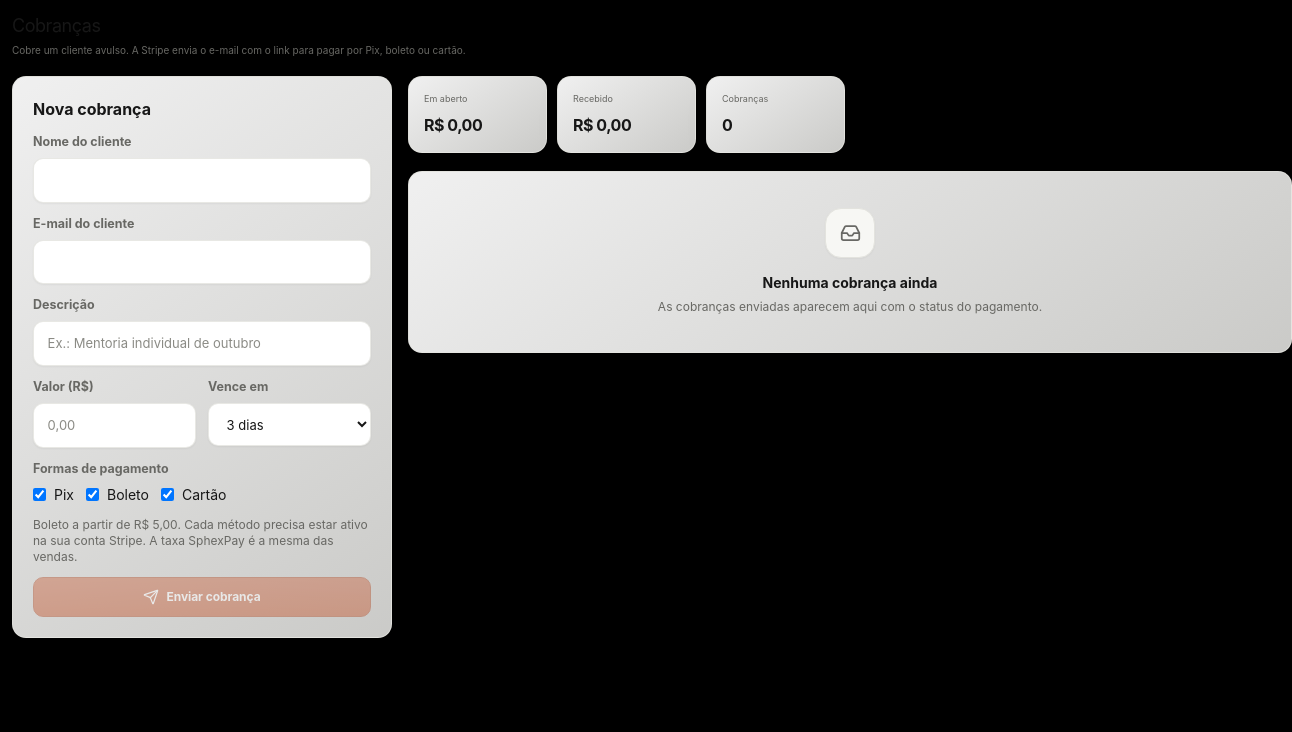
Test case: Financeiro: taxas e cobranças › envia a cobrança com o valor em centavos e os métodos escolhidos
Expected: the text "Nenhuma cobrança ainda" is shown, left=763, top=272, right=937, bottom=292
Type "Ana" into the field labelled "Nome do cliente". click: (202, 180)
box: left=33, top=158, right=371, bottom=203
Type "ana@exemplo.com" into the field labelled "E-mail do cliente". click: (202, 262)
box: left=33, top=240, right=371, bottom=284
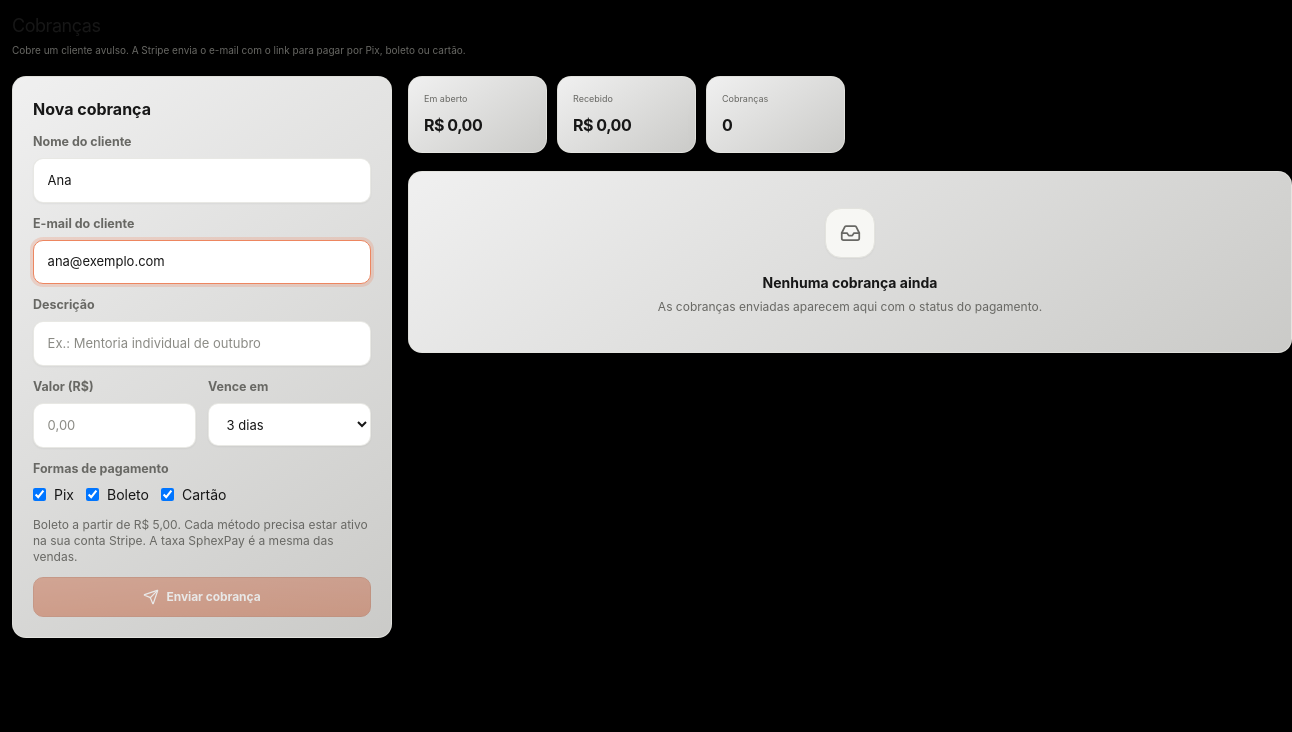
Type "Mentoria" into the field labelled "Descrição". click: (202, 344)
box: left=33, top=321, right=371, bottom=366
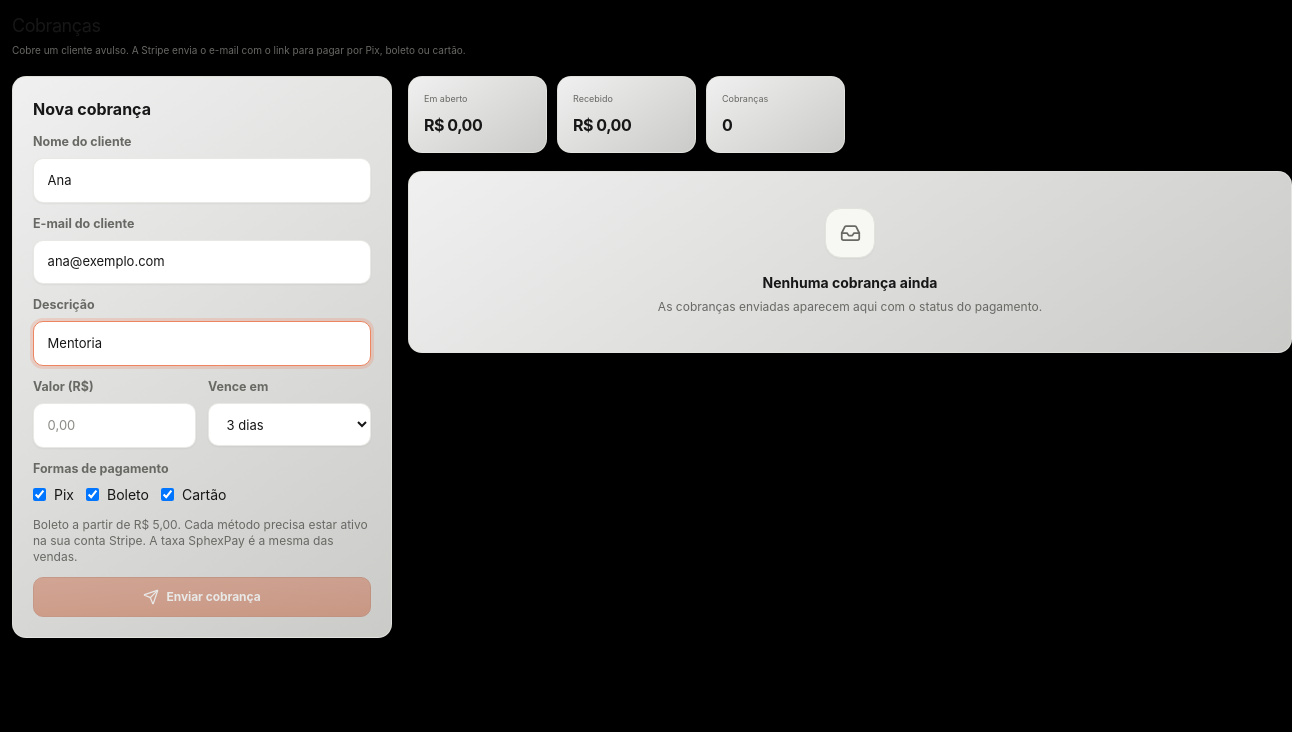
Type "1.234,56" into the field labelled "Valor (R$)". click: (114, 425)
box: left=33, top=403, right=196, bottom=448
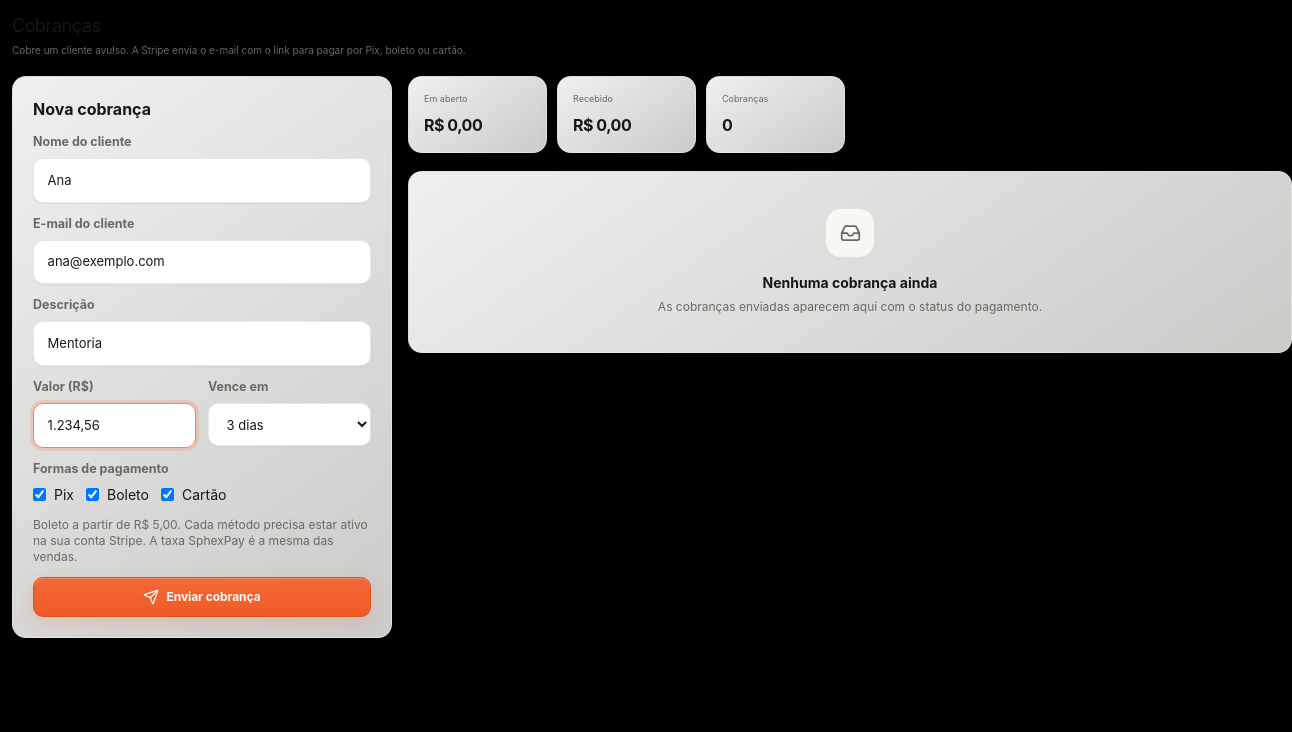
Click the checkbox labelled "Boleto". click: (92, 495)
box: left=86, top=488, right=99, bottom=501
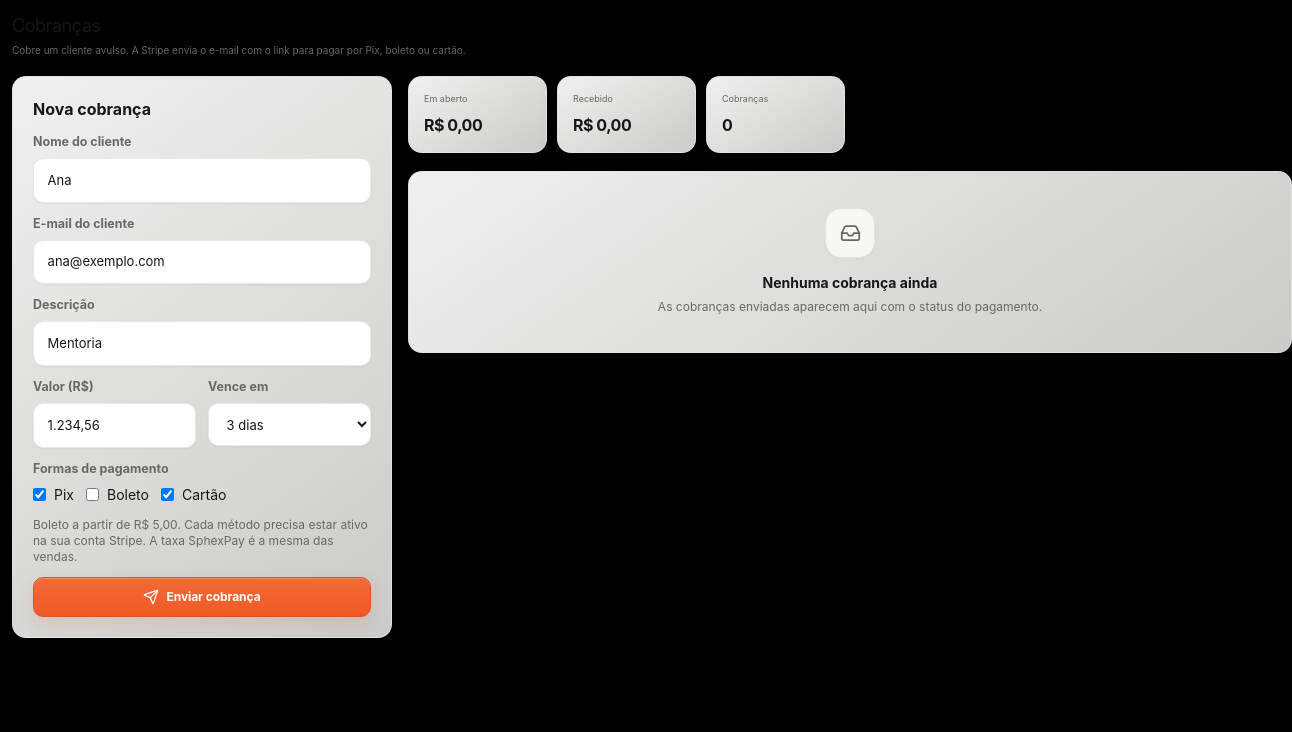
Click the checkbox labelled "Cartão". click: (167, 495)
box: left=161, top=488, right=174, bottom=501
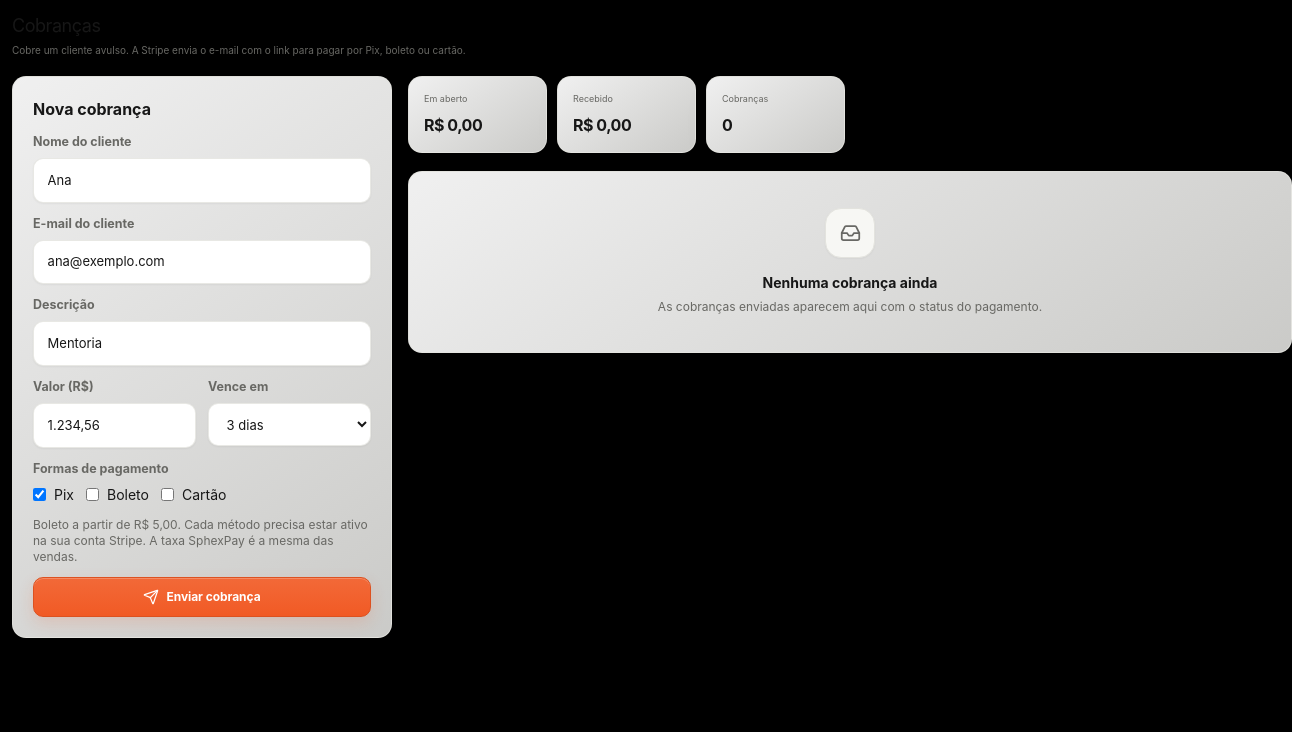
Click the button "Enviar cobrança". click: (202, 597)
box: left=33, top=577, right=371, bottom=617
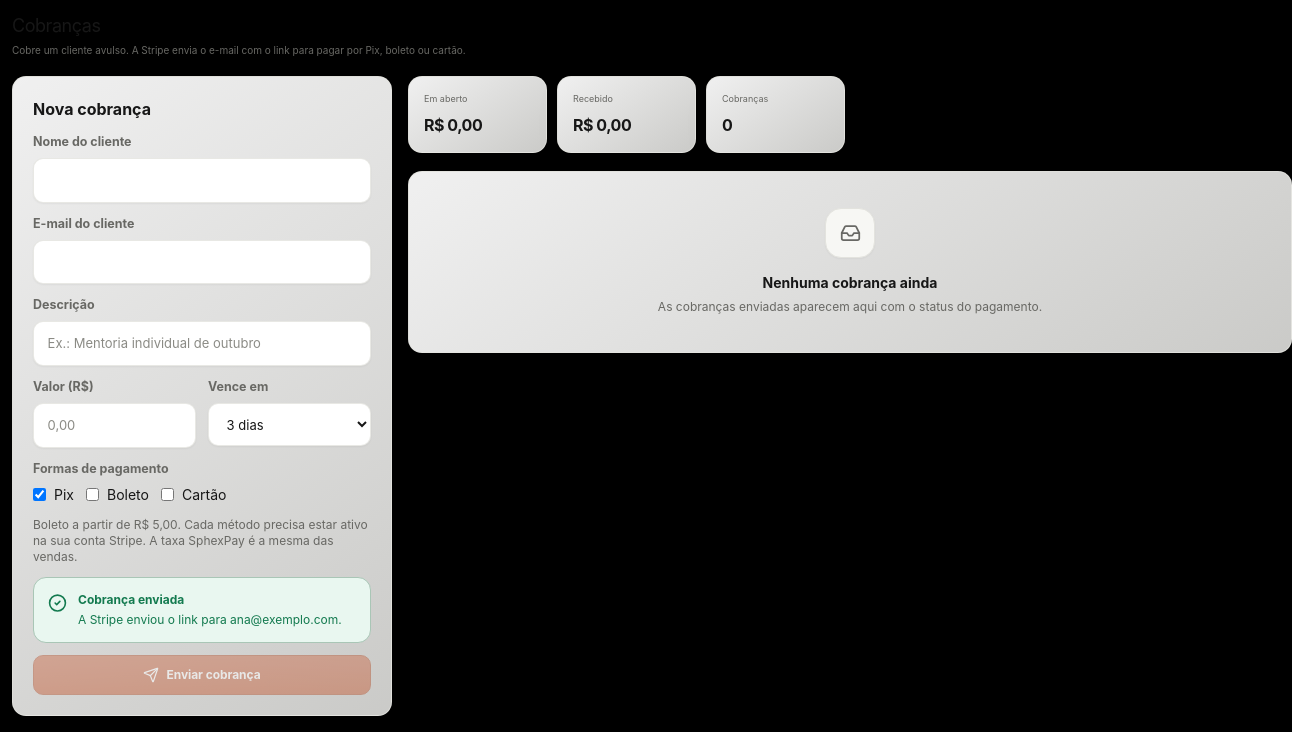
Result: the text "Cobrança enviada" is shown at left=78, top=592, right=184, bottom=607
